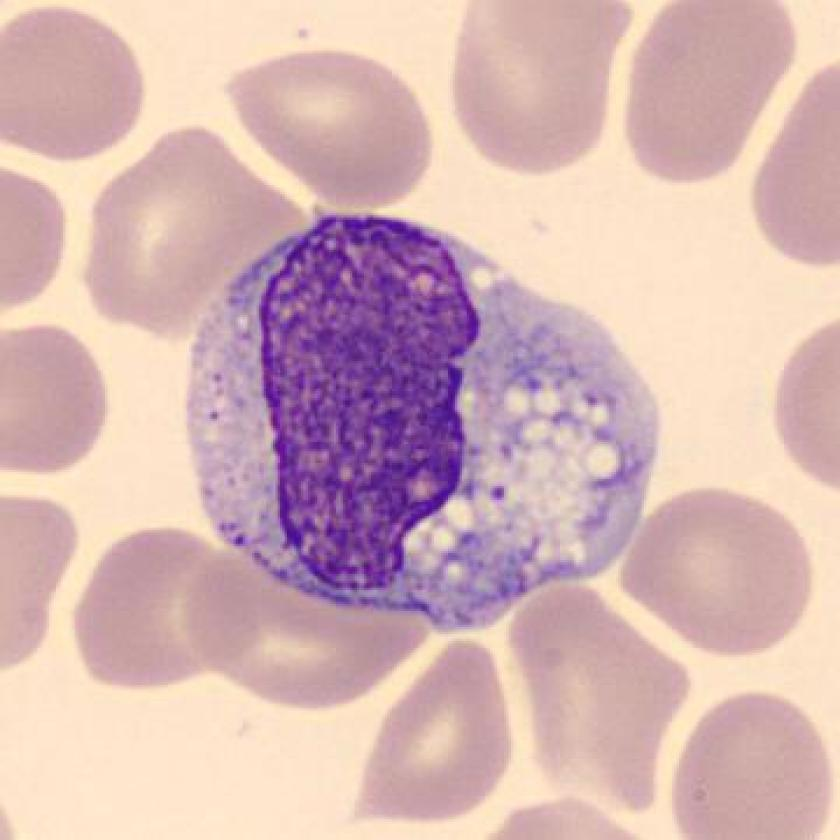monocyte: (171, 202, 692, 640)
